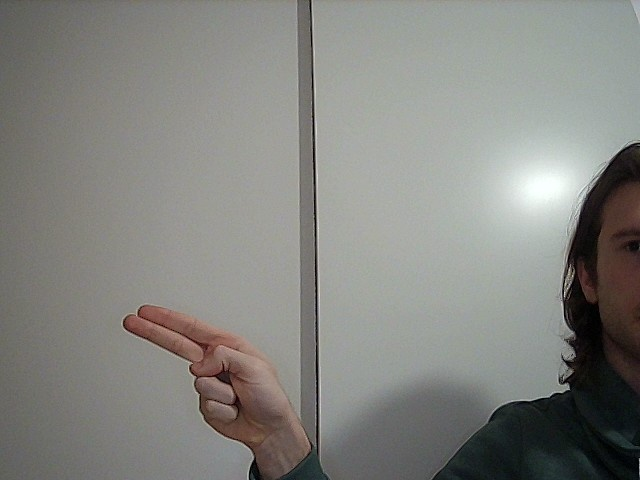h: (105, 286, 303, 441)
